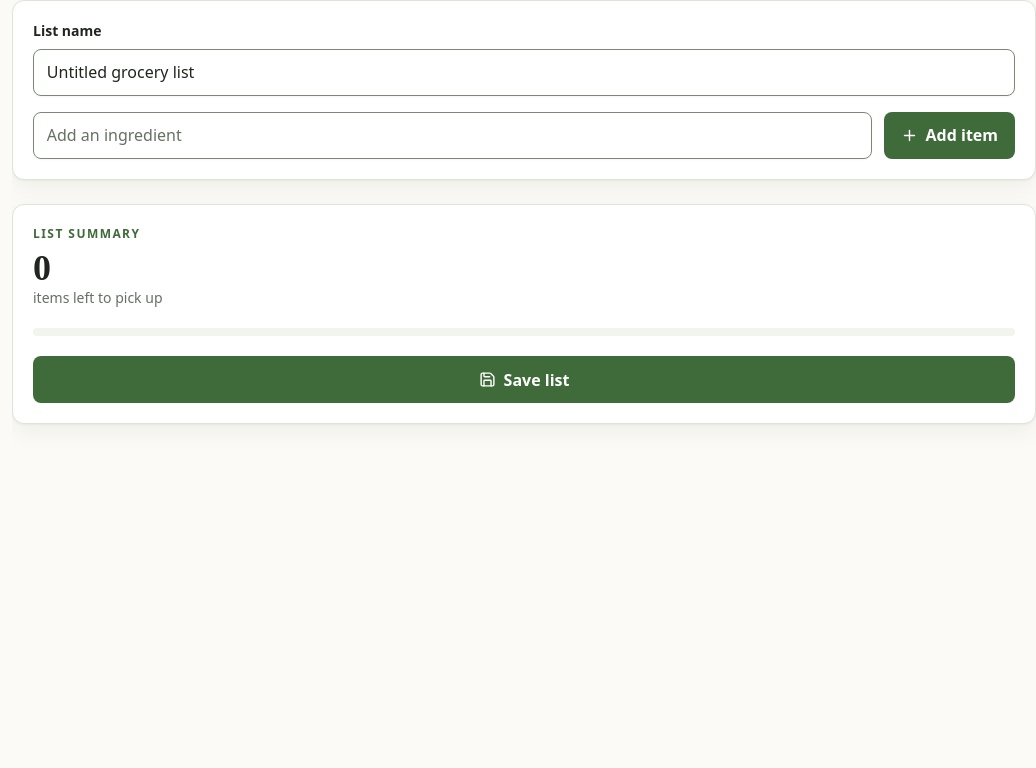
Test case: GroceryListEditor › starts blank when creating a manual grocery list
Expected: the text "0" is shown, [33,248,51,288]
In the field with placeholder "Add an ingredient": (452, 135) [33,112,872,159], type "Milk"
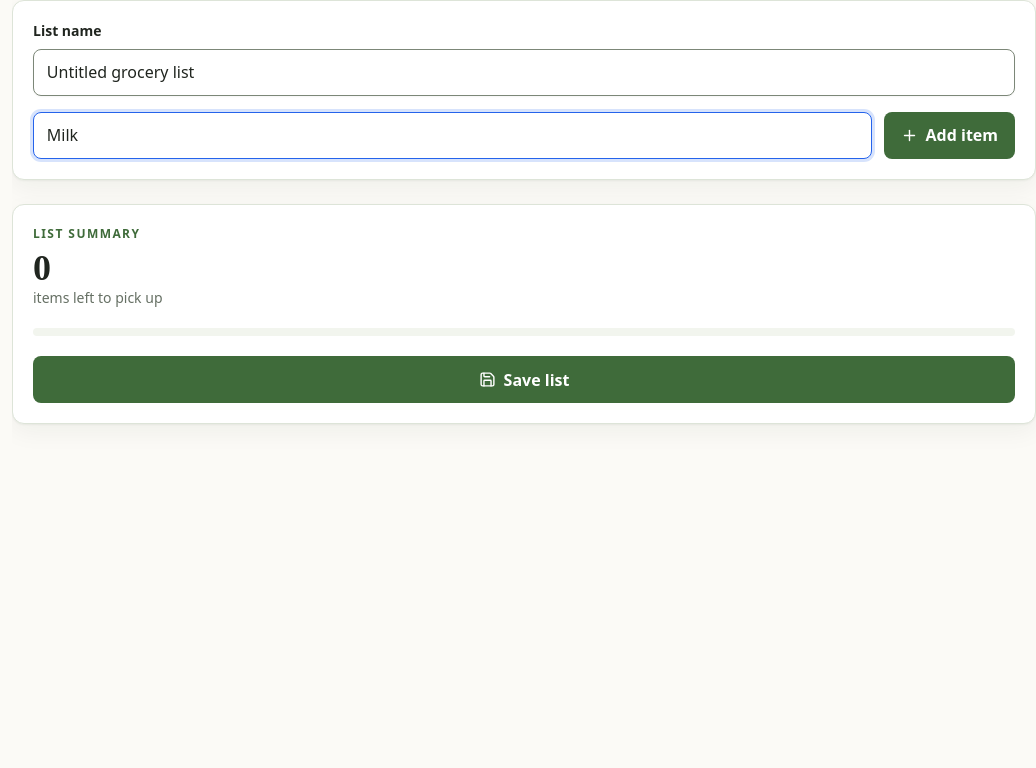
Click the button "Add item": (949, 135) [884,112,1015,159]
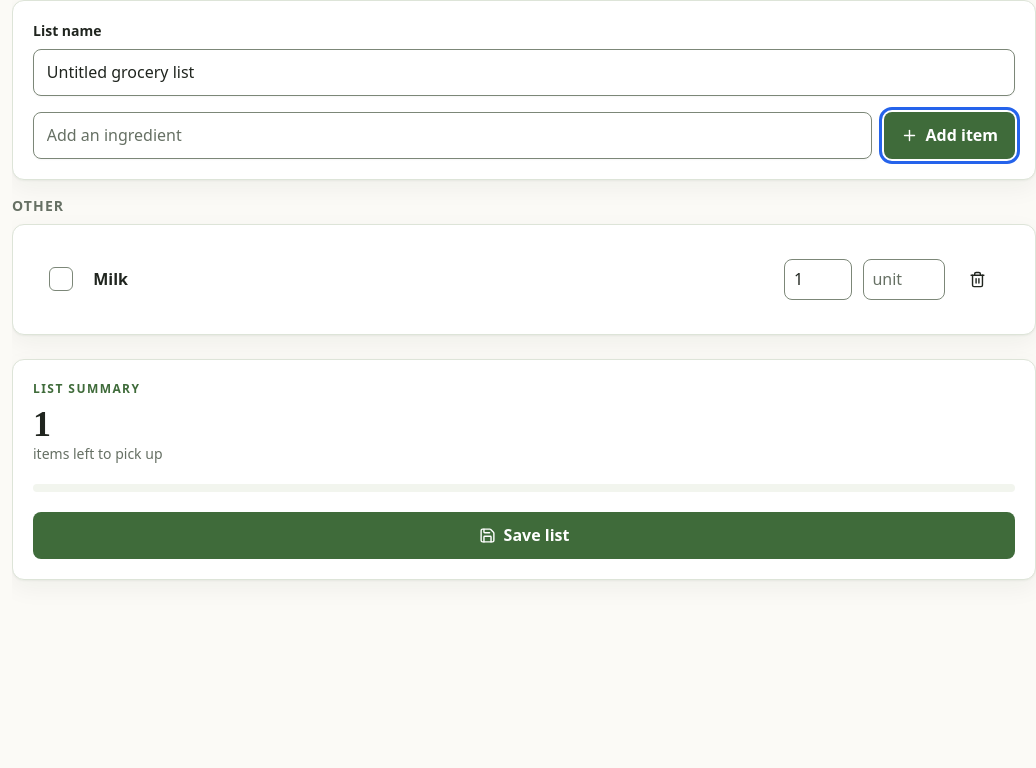
Now the field showing "Milk" is shown, box [83,259,774,300]
Now the text "1" is shown, box [33,404,51,444]
